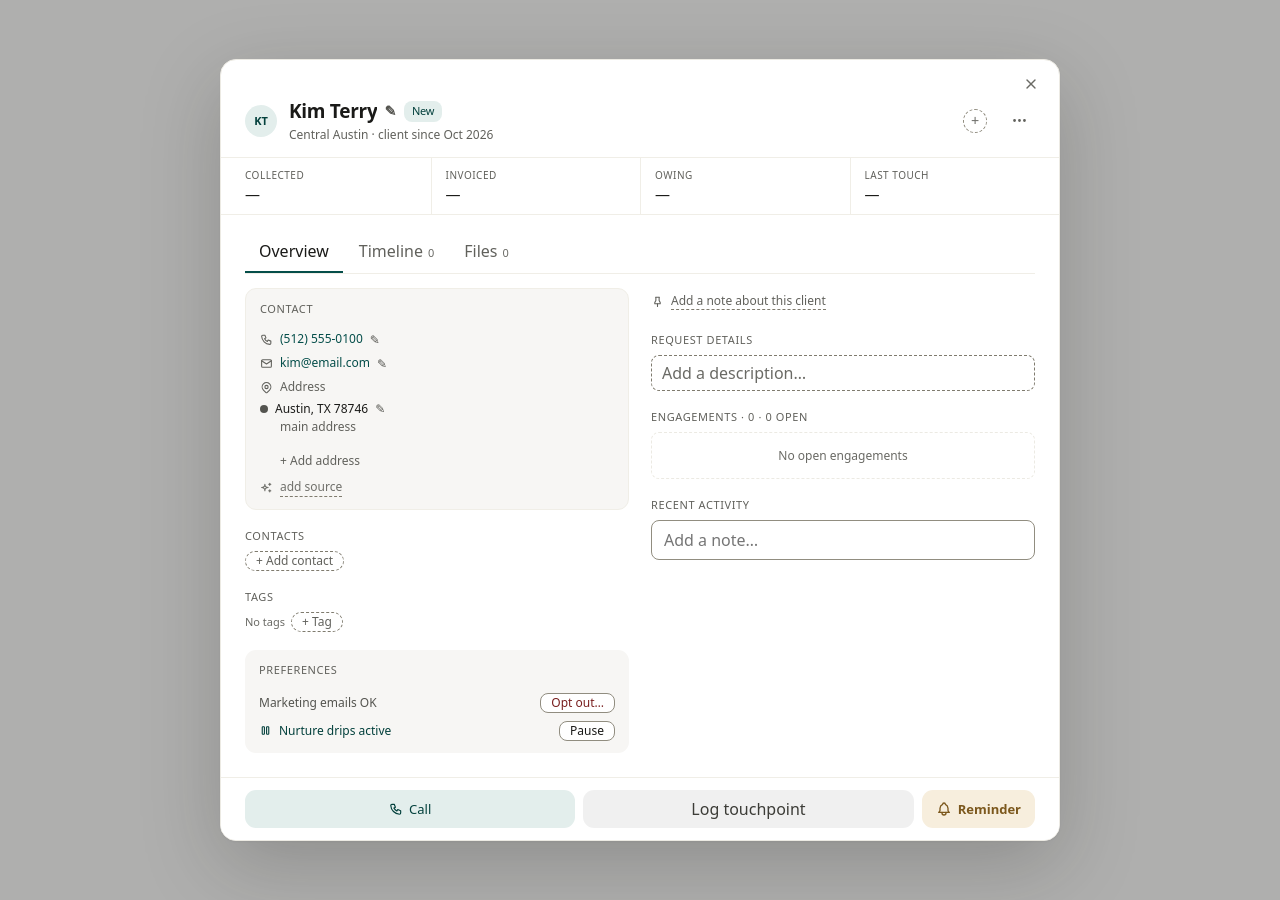
the lead card ··· menu — "Transfer to another location" › picking it opens the transfer dialog for a lead WITH a home
The width and height of the screenshot is (1280, 900).
Click the button named "More": (1019,121) [1003,105,1035,137]
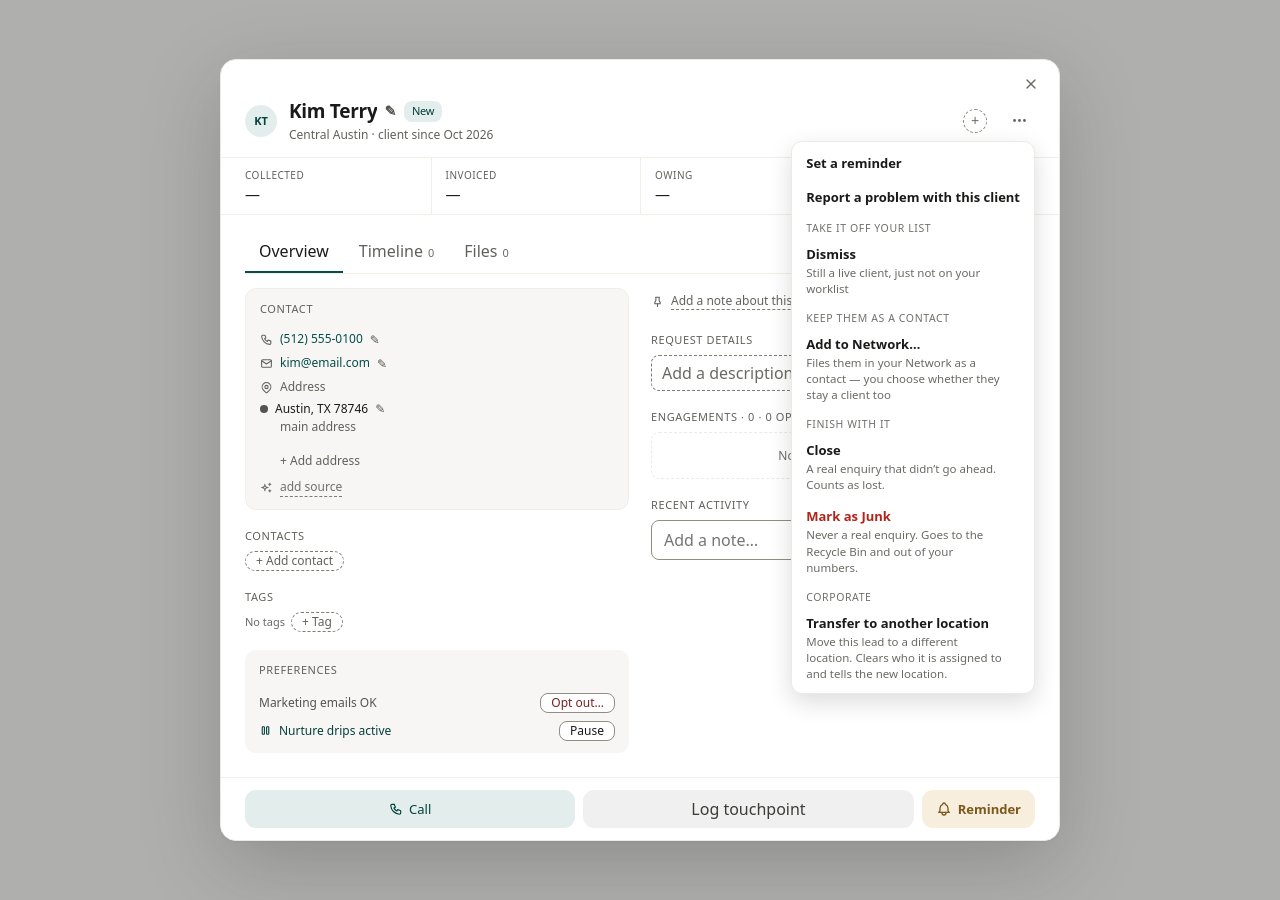
Click the button that starts with "Transfer to another location": (913,648) [796,607,1030,689]
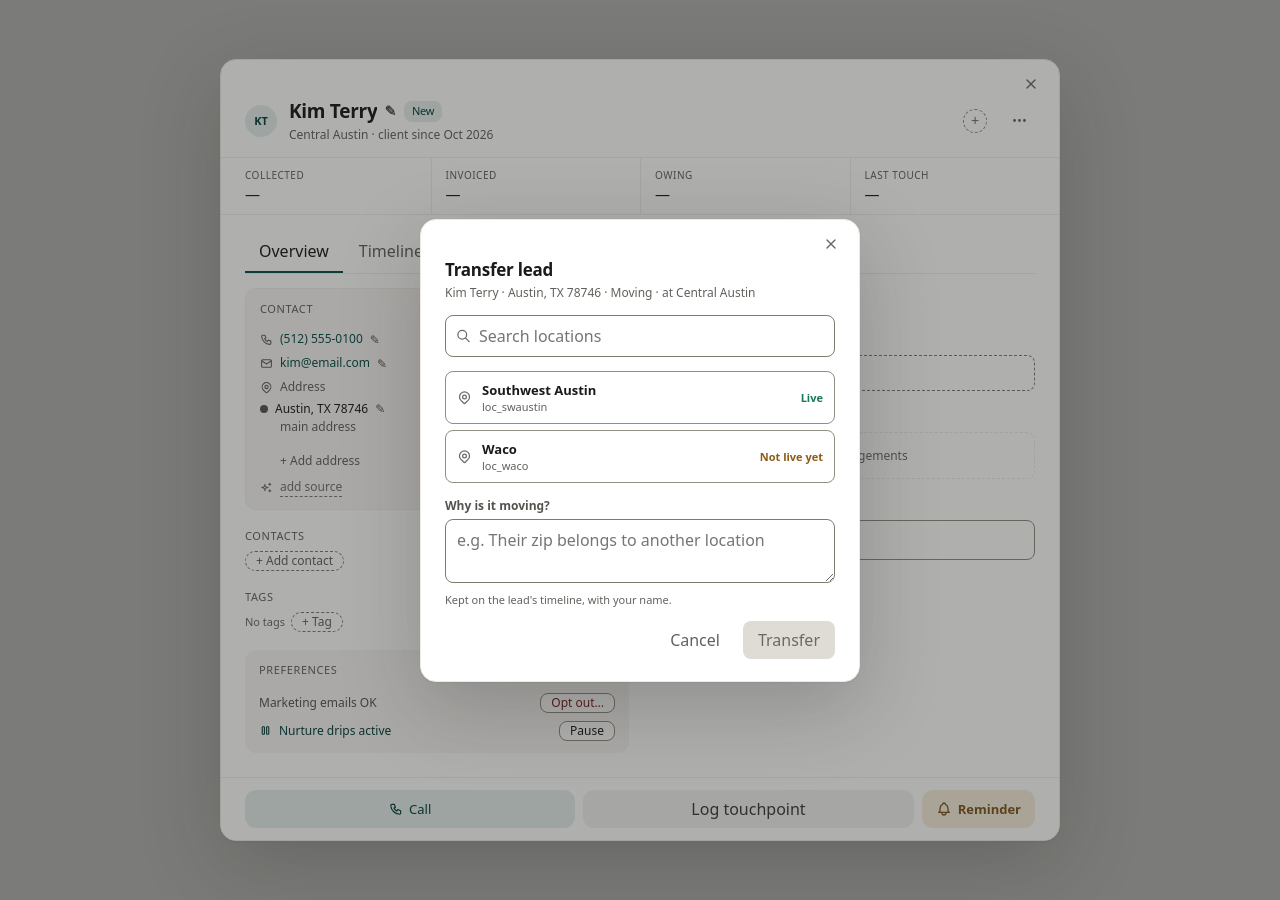
Result: the dialog shows "Kim Terry" at [445,284,756,300]
Result: the dialog shows "at Central Austin" at [445,284,756,300]
Result: the text box with id "transfer-reason" is shown at [445,518,835,582]
